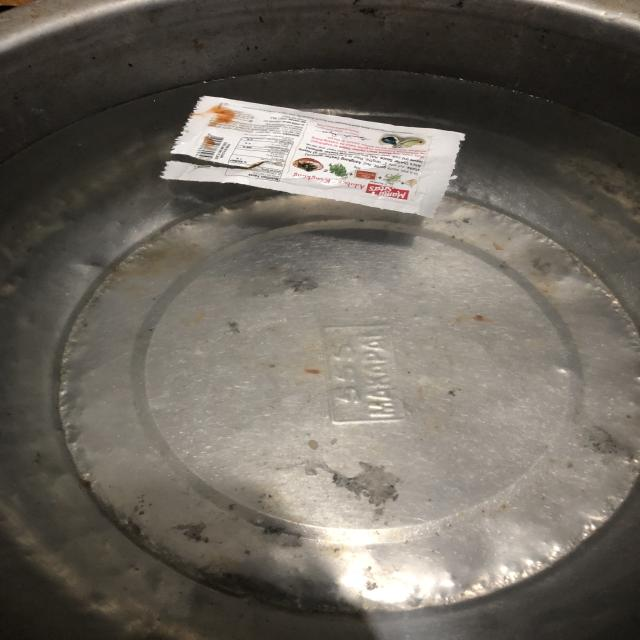Plastic Wrapper: (128, 84, 480, 240)
